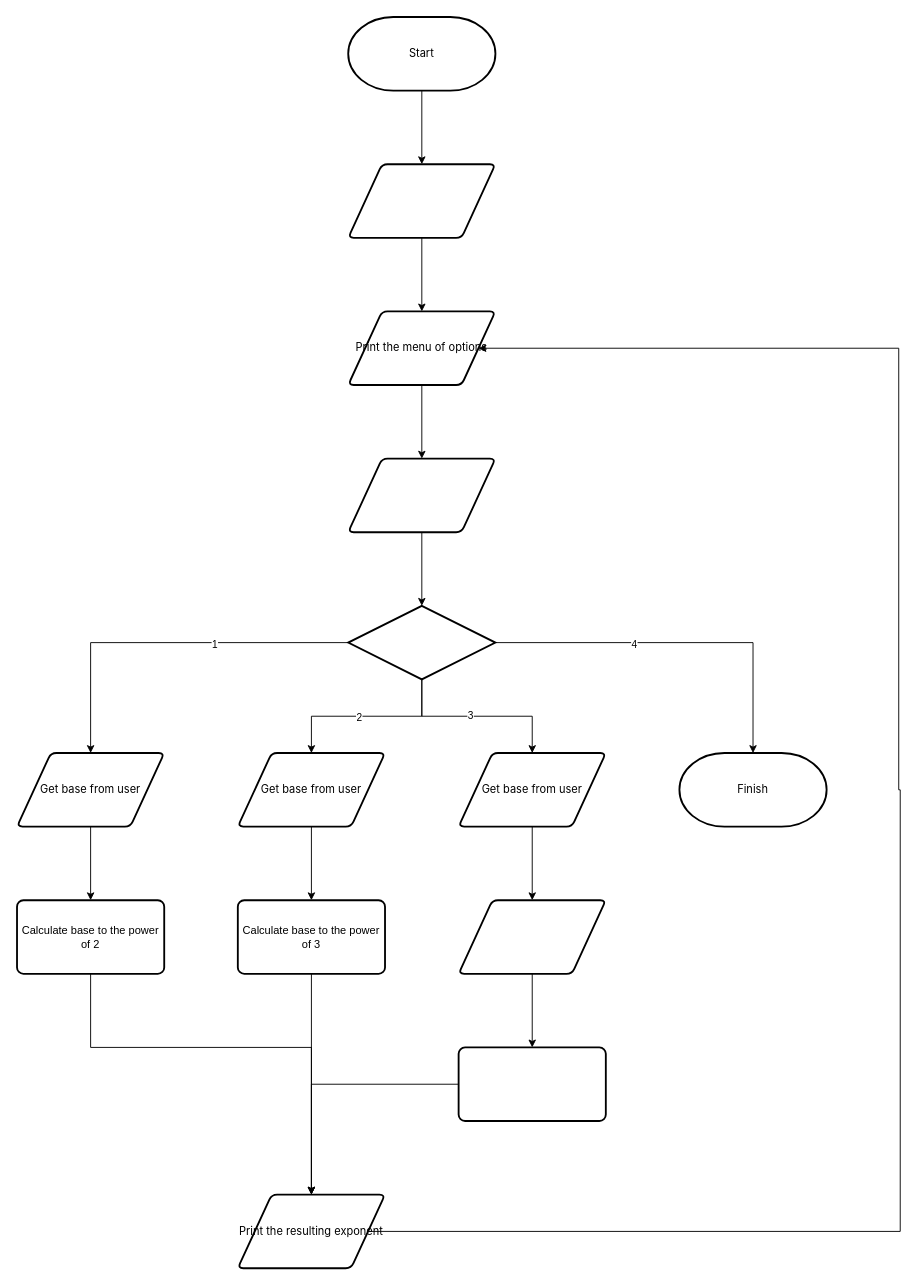
This 924x1284 diagram has some shape labels left out. Here are the shapes that lost their labels. From the top down, the centre of each, then its label:
At pixel 421 200: "Print the program title".
At pixel 421 495: "Get the option choice for user".
At pixel 421 642: "if user choice is equal to".
At pixel 531 936: "Get power from user".
At pixel 531 1083: "Calculate base to the power of the user's power".
